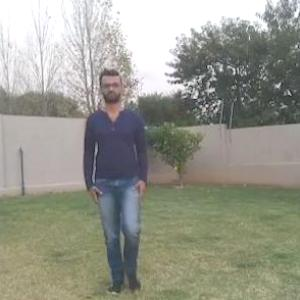follow: (96, 82, 146, 280)
